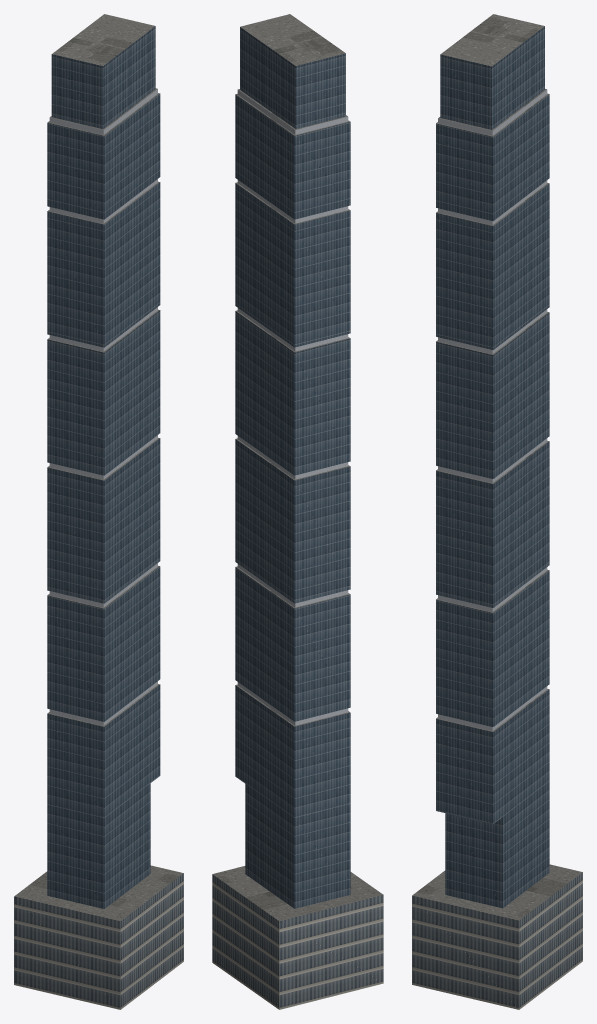
File: cpt.glb
3 renders of one model, left to right at view 1: azimuth 90°, elevation 25°; view 2: azimuth 150°, elevation 25°; view 3: azimuth 270°, elevation 25°, orthographic.
Visible parts, largest first — view 1: cpt; view 2: cpt; view 3: cpt.
Part boxes in pixels (x1,y1,x2,y2): cpt: [14, 14, 183, 1009]; cpt: [212, 14, 383, 1009]; cpt: [412, 14, 582, 1009].
Size of the model in its own units: 79.63 by 472 by 78.07.
30 materials, 30 textured.
